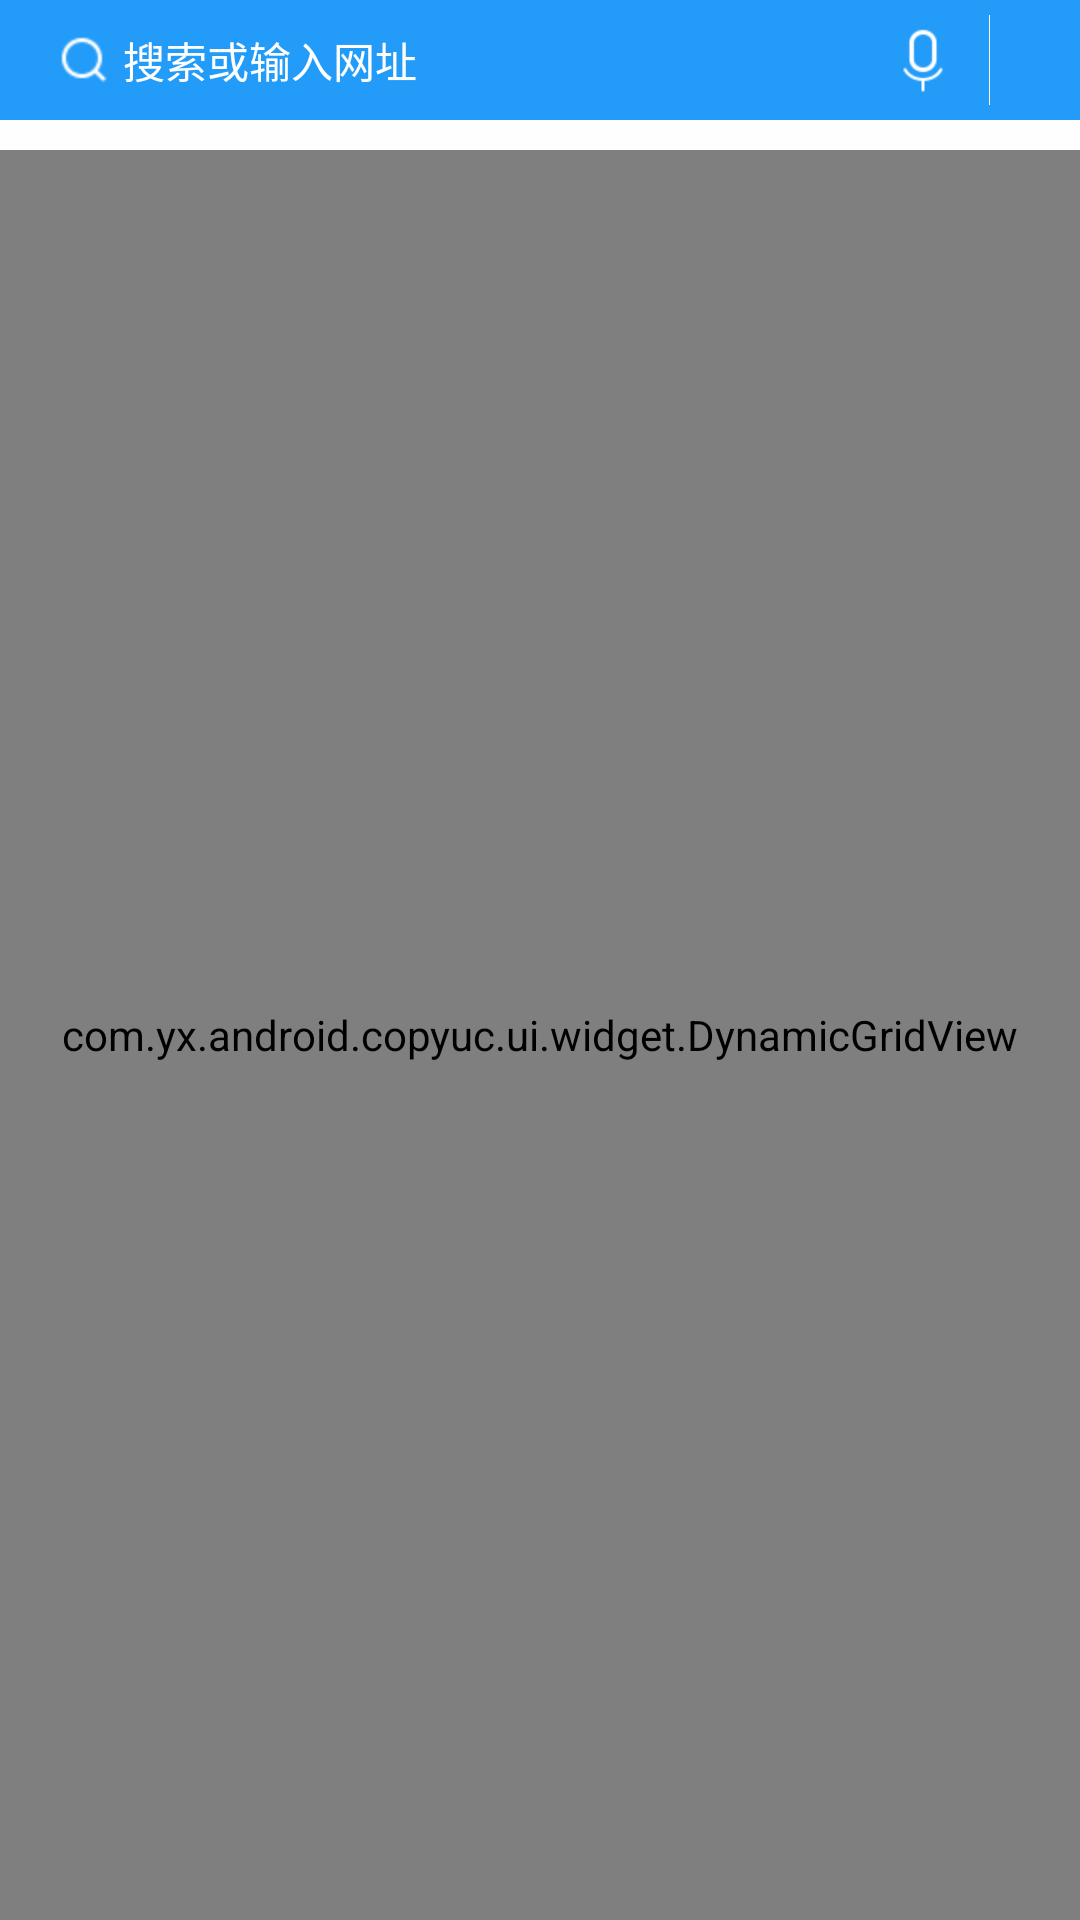

Icons on this 1080w x 1920h Android screen, each with its box as (x1, y1, x2, y2):
speech: (903, 29, 943, 92)
